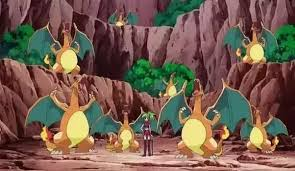charizard: (159, 78, 254, 160), (28, 80, 105, 156), (27, 18, 96, 76), (95, 103, 160, 156), (221, 17, 282, 67), (233, 105, 288, 156), (152, 68, 185, 98), (107, 7, 140, 27)
